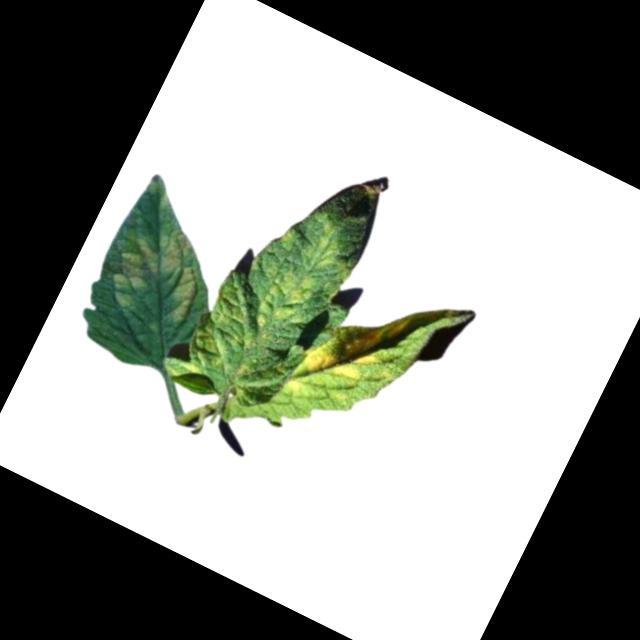Leaf_Mold: (92, 209, 218, 339), (245, 204, 353, 346), (298, 280, 412, 403), (178, 273, 274, 385), (281, 373, 309, 399)
